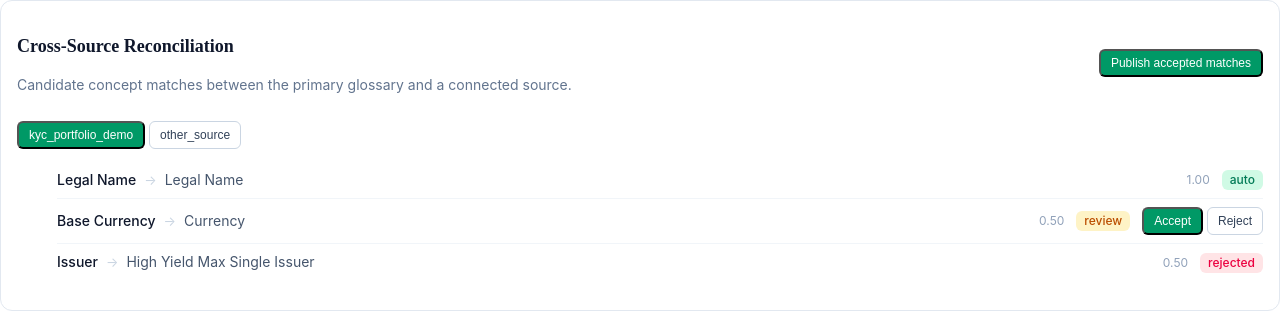
switching the source selector loads that source's own matches
expect the list item "Legal Name→Legal Name 1.00 auto" is shown: met, box [57,162,1263,199]
Click the button "other_source" at (195,135), box [149,121,241,149]
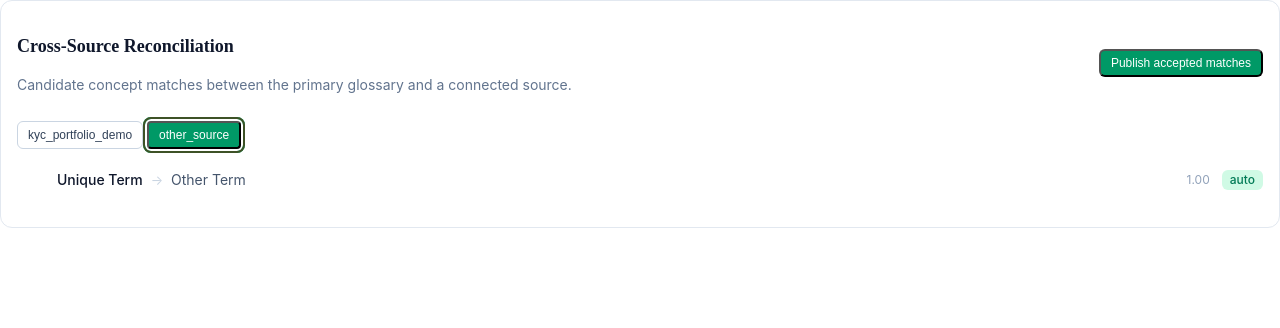
expect the text "Unique Term" is shown: met, box [57,171,143,188]
